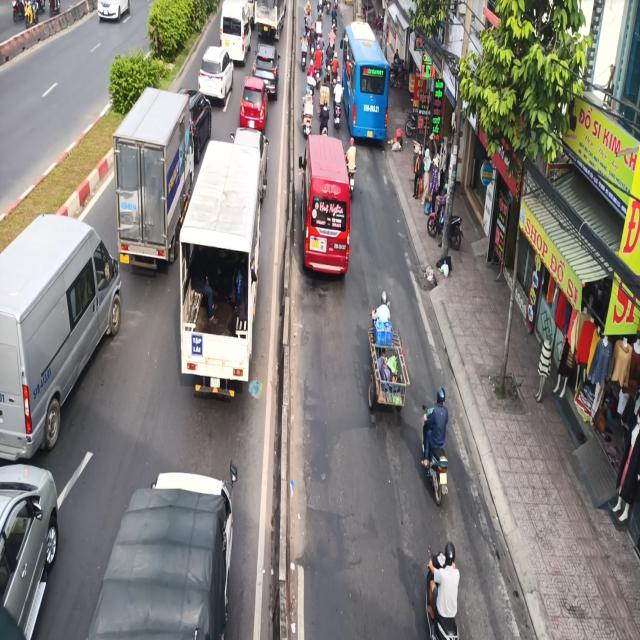bus: (343, 15, 393, 151)
car: (300, 130, 355, 280), (240, 70, 268, 125)
motor: (419, 378, 456, 508), (422, 544, 469, 640)
truck: (178, 135, 270, 410), (117, 85, 193, 259)
